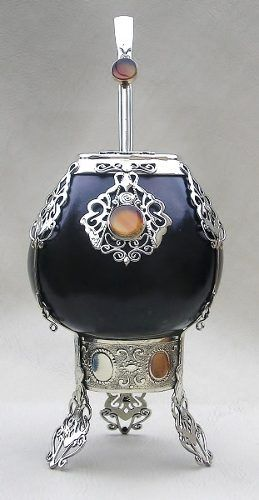madera: (34, 139, 231, 339)
mate: (36, 141, 233, 341)
